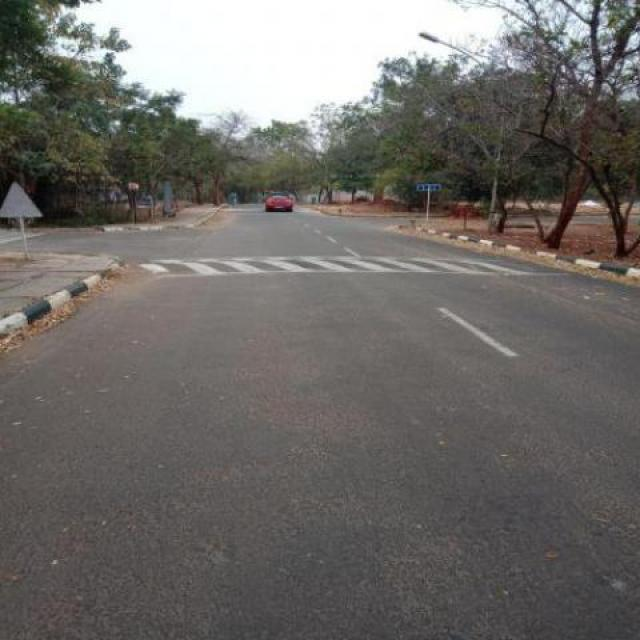Speed Bump: (111, 256, 581, 276)
